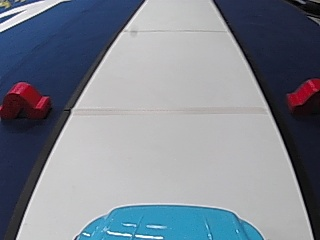bridge: (0, 79, 53, 121), (282, 75, 319, 119)
